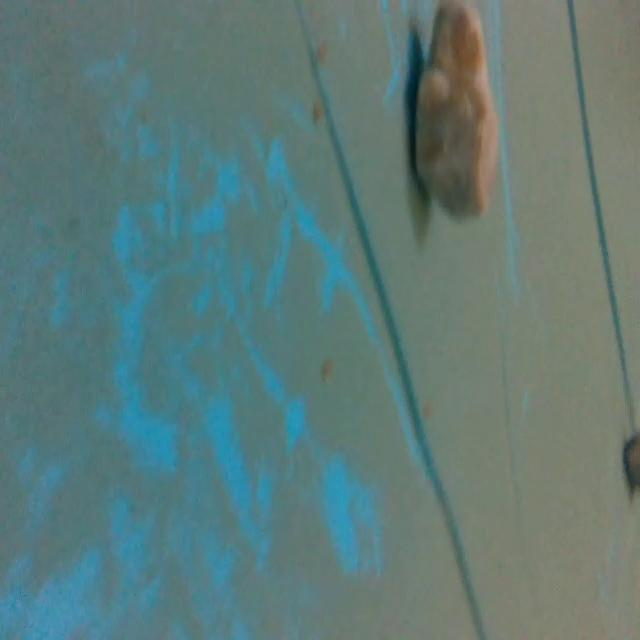rock: (407, 0, 506, 234)
